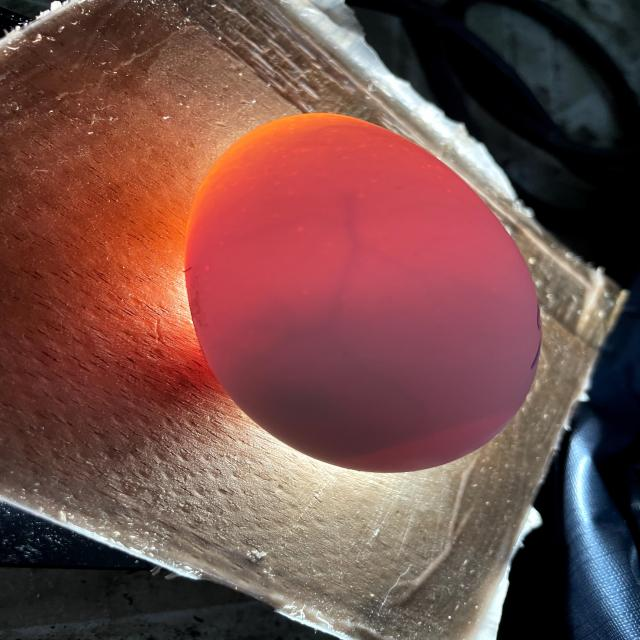fertile: (185, 114, 542, 473)
